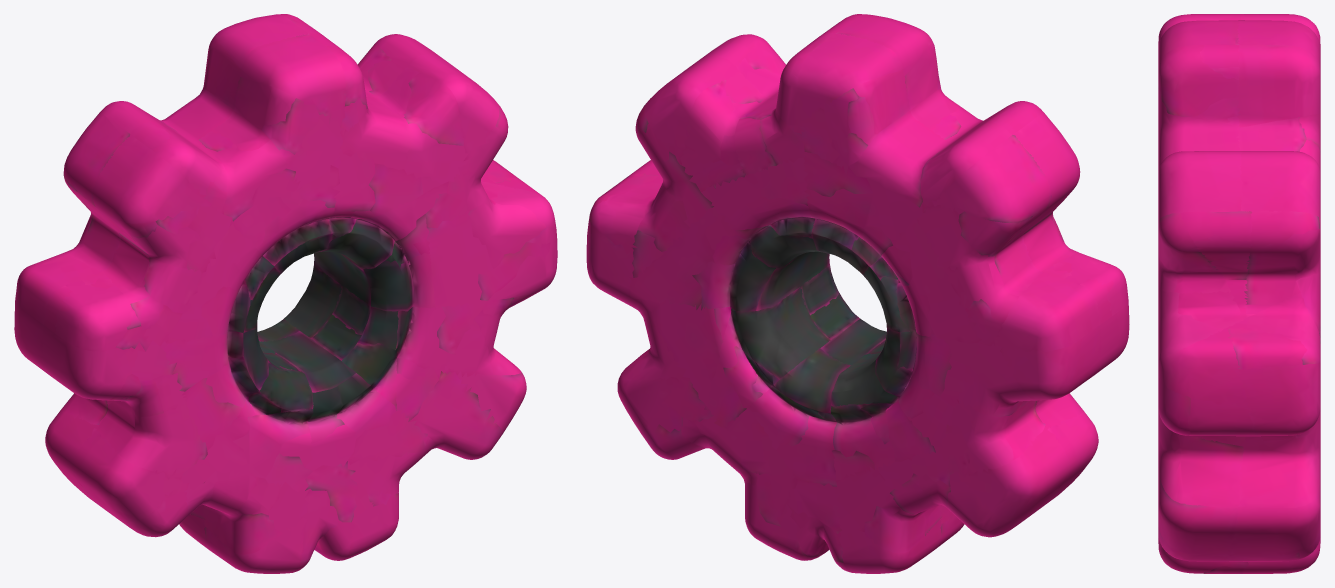
Rendered from poplur_cube_gear.glb.
3 renders of one model, left to right at view 1: azimuth 30°, elevation 25°; view 2: azimuth 150°, elevation 25°; view 3: azimuth 270°, elevation 25°, orthographic.
Parts seen in each view (by area): view 1: mesh_node; view 2: mesh_node; view 3: mesh_node.
Boxes of the visible parts, x1,y1,x2,y2 form: mesh_node: (14, 14, 557, 573); mesh_node: (586, 14, 1129, 573); mesh_node: (1158, 14, 1320, 573).
Size of the model in its own units: 1.9 by 1.9 by 0.54.
Materials: 1 (1 with a texture image).
